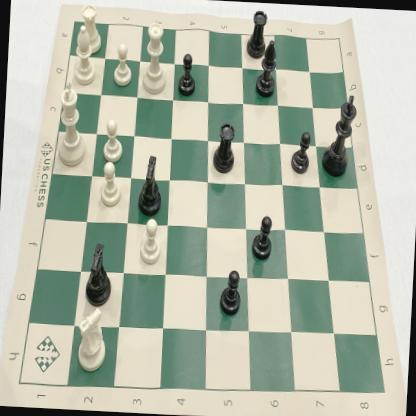black-bishop: (252, 37, 282, 102)
black-king: (318, 89, 361, 179)
black-knight: (80, 236, 118, 310), (134, 149, 168, 223)
black-pawn: (218, 263, 247, 320), (247, 209, 275, 266), (173, 50, 198, 102), (288, 125, 312, 178)
black-rook: (208, 118, 240, 179), (242, 4, 270, 62)
white-bishop: (68, 24, 100, 86)
white-king: (52, 77, 91, 170)
white-knight: (71, 303, 113, 378)
white-pawn: (109, 38, 138, 92), (136, 216, 166, 268), (96, 158, 125, 211), (99, 115, 127, 166)
white-queen: (137, 17, 174, 99)
white-rook: (75, 0, 106, 57)
